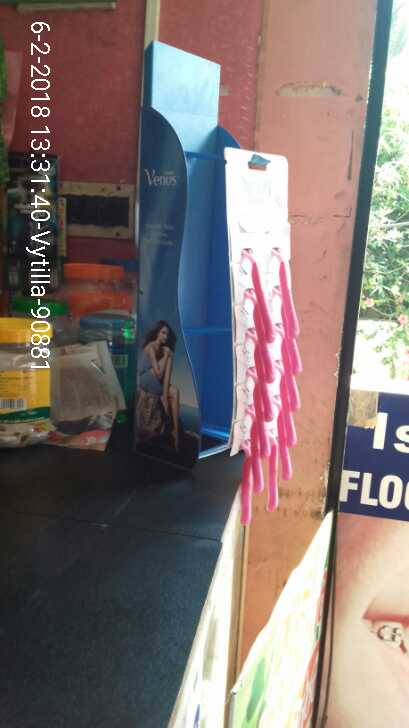reject: (152, 198, 222, 266)
